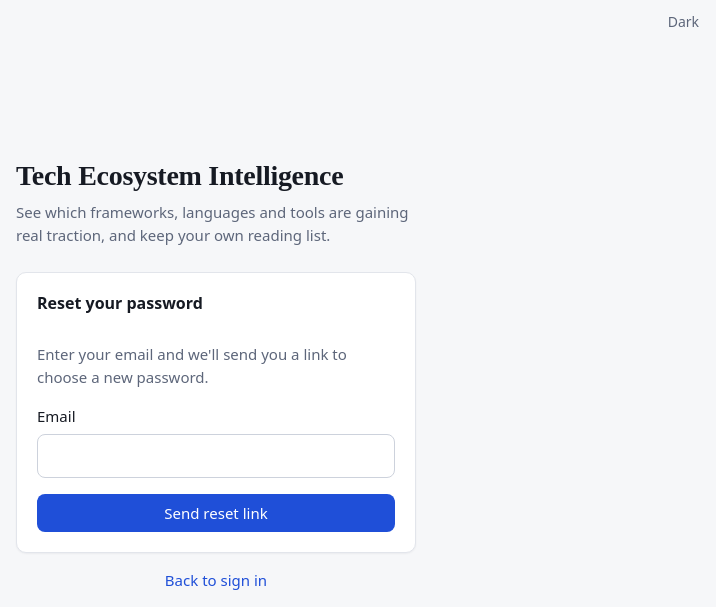
it: password and email pages › forgot password asks for an email and shows the same confirmation either way
Type "ada@example.com" into the field labelled "Email" at (216, 456), box [37, 434, 395, 478]
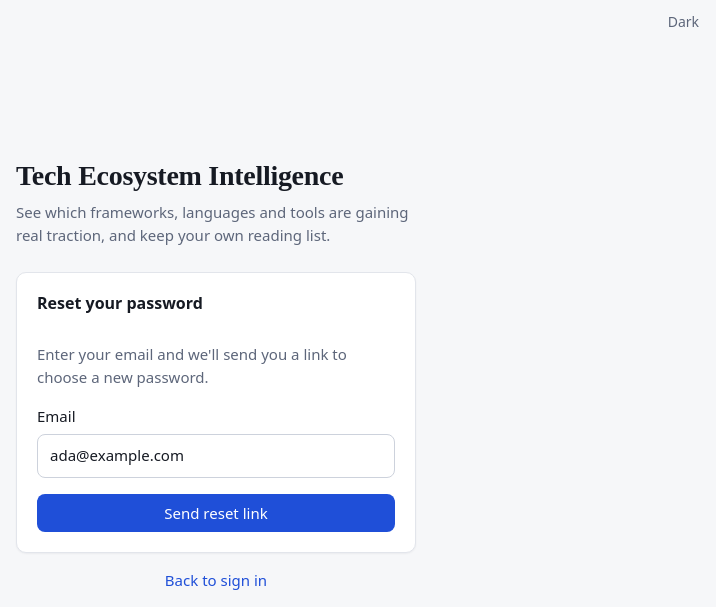
Click the button "Send reset link" at (216, 513), box [37, 494, 395, 532]
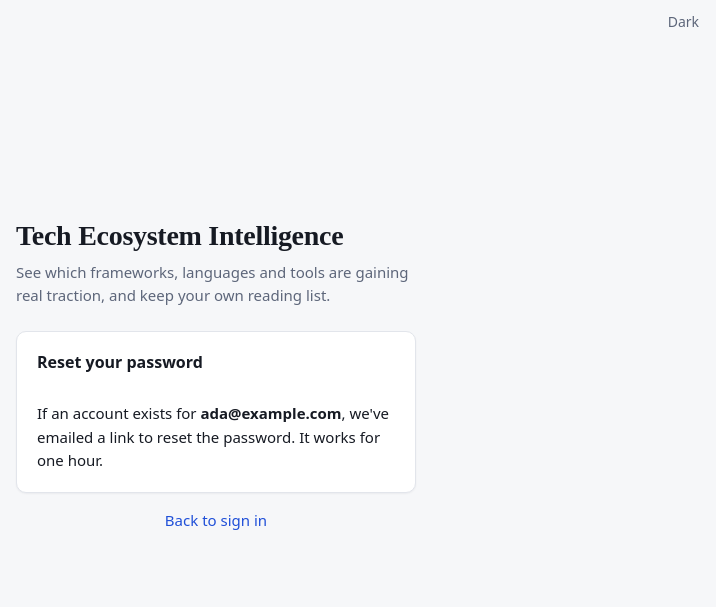
Expected: the text "we've emailed a link" is shown, [37, 403, 389, 470]
